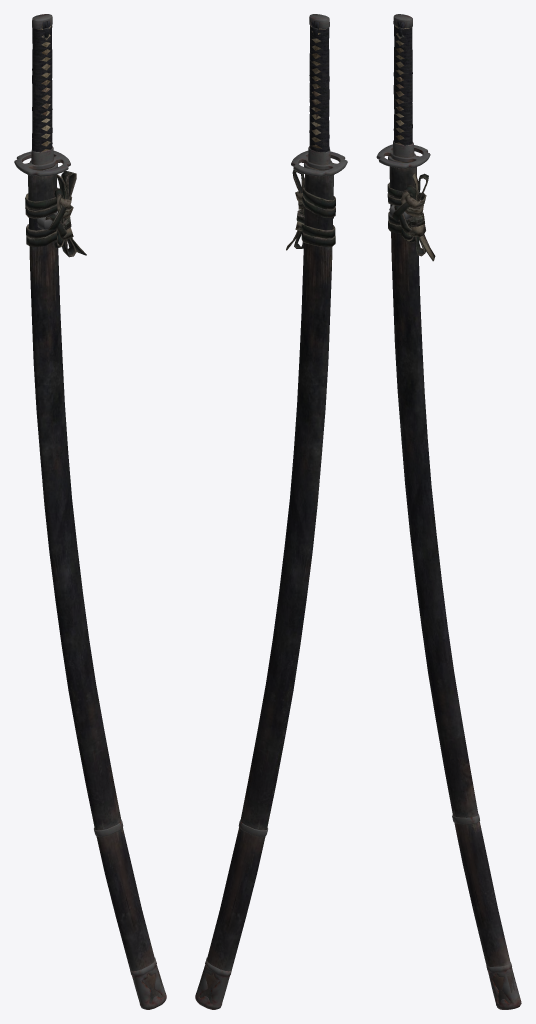
File: weapon-nagakiba.glb
The picture shows the model from 3 angles, left to right: view 1: azimuth 30°, elevation 25°; view 2: azimuth 150°, elevation 25°; view 3: azimuth 330°, elevation 25°; orthographic projection. The views are drawn at different scales.
Visible parts, largest first — view 1: wp_a_0551; view 2: wp_a_0551; view 3: wp_a_0551.
Boxes of the visible parts, bbox=[...] form: wp_a_0551: bbox=[14, 14, 166, 1009]; wp_a_0551: bbox=[195, 14, 347, 1009]; wp_a_0551: bbox=[376, 14, 521, 1009].
Size of the model in its own units: 0.3148 by 2.09 by 0.1009.
Materials: 2 (2 with a texture image).
